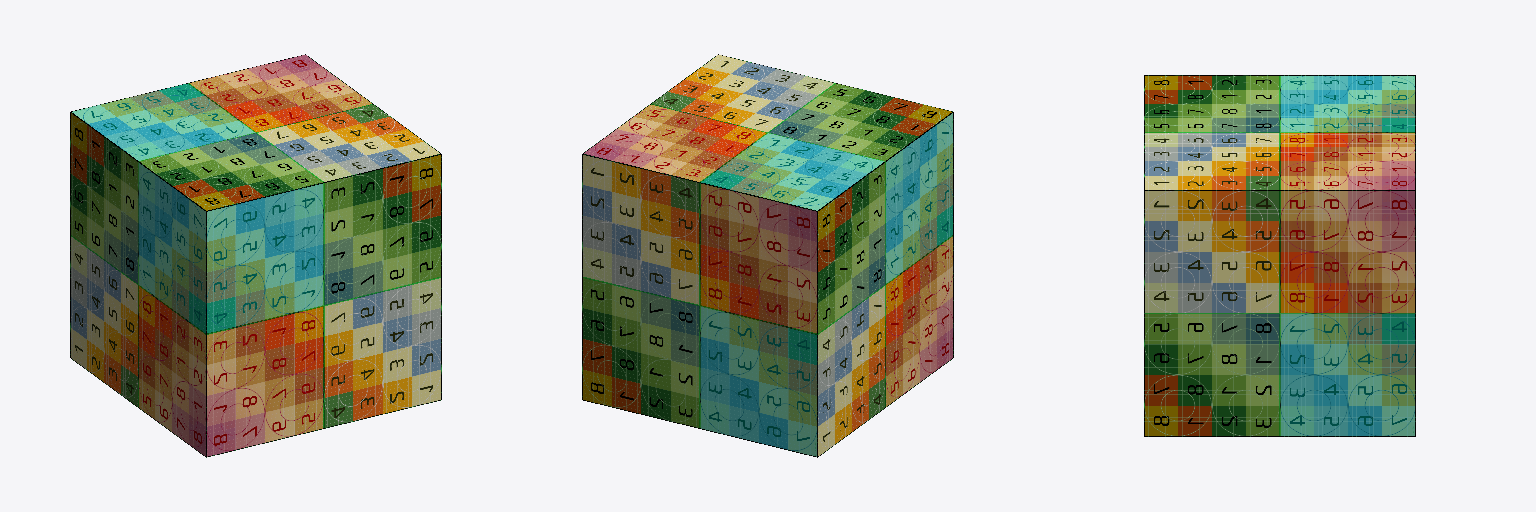
The picture shows the model from 3 angles: view 1: azimuth 30°, elevation 25°; view 2: azimuth 150°, elevation 25°; view 3: azimuth 270°, elevation 25°; orthographic projection.
Visible parts, largest first — view 1: Cube; view 2: Cube; view 3: Cube.
Part boxes in pixels (x1,y1,x2,y2): Cube: (70,54,441,457); Cube: (582,54,953,457); Cube: (1144,75,1415,436).
Size of the model in its own units: 2 by 2 by 2.
Materials: 1 (1 with a texture image).